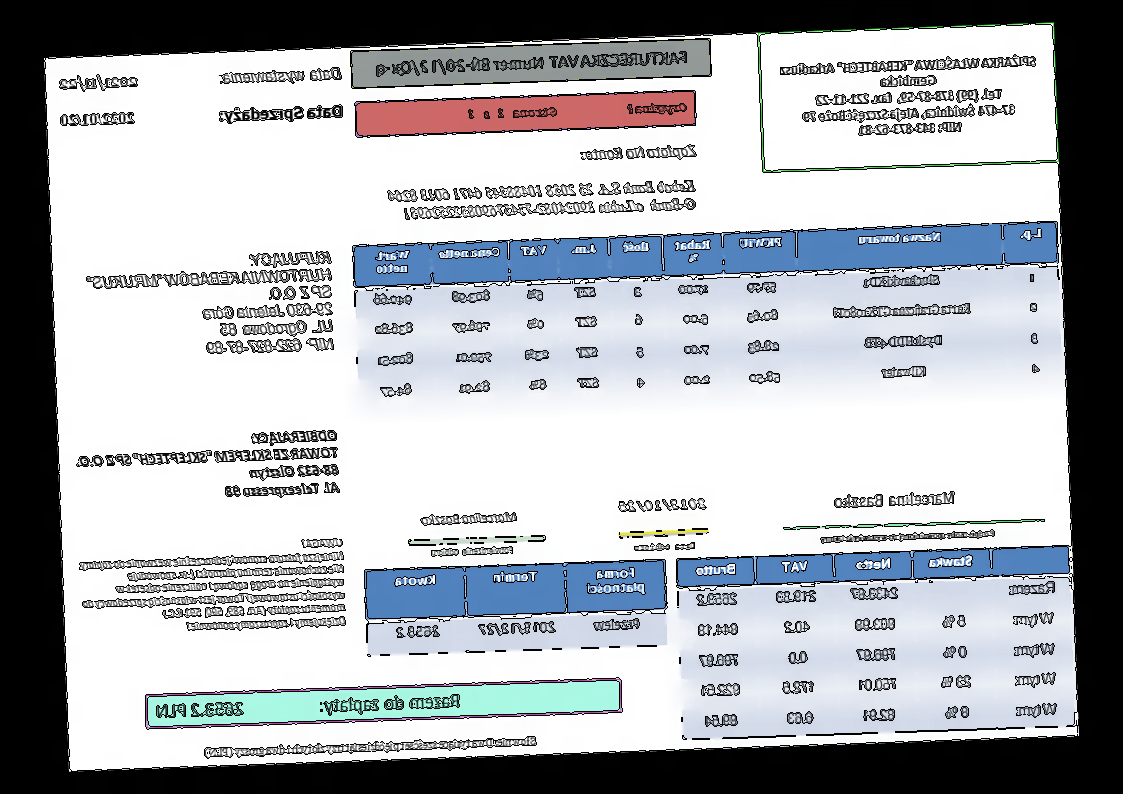Table: (350, 218, 1064, 410), (675, 545, 1077, 741), (364, 558, 670, 657)
TextBox: (83, 247, 338, 361), (77, 535, 349, 638), (779, 50, 1042, 141), (73, 425, 343, 506), (386, 175, 698, 223), (374, 48, 692, 80), (156, 690, 462, 722), (202, 732, 539, 761), (464, 98, 690, 125), (215, 101, 345, 127), (819, 528, 997, 546), (217, 63, 345, 88), (577, 140, 699, 164), (834, 489, 957, 510), (56, 71, 142, 94), (419, 509, 519, 528), (615, 495, 709, 514), (57, 109, 138, 129), (429, 544, 515, 558), (633, 538, 697, 553)
